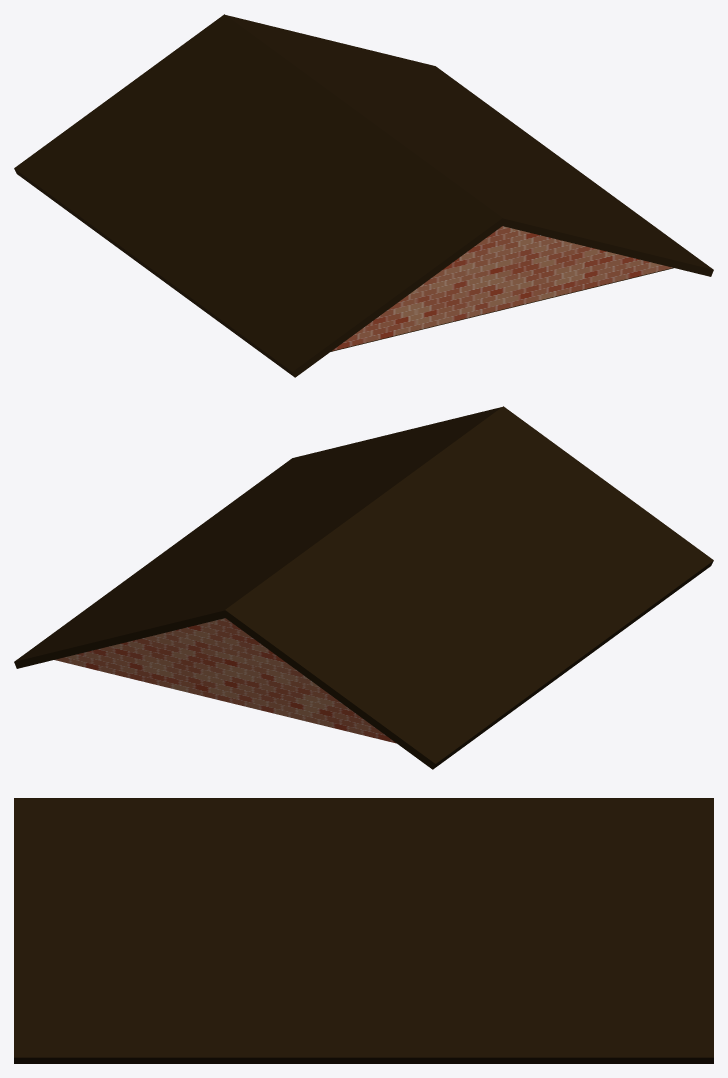
Rendered from Roof.fbx.
3 renders of one model, top to bottom at view 1: azimuth 30°, elevation 25°; view 2: azimuth 150°, elevation 25°; view 3: azimuth 270°, elevation 25°, orthographic. The views are drawn at different scales.
Parts seen in each view (by area): view 1: roof; view 2: roof; view 3: roof.
Boxes of the visible parts, box(x1,y1,x2,y2) form: roof: box(14, 14, 713, 377); roof: box(14, 406, 713, 769); roof: box(14, 798, 713, 1063).
Size of the model in its own units: 3205 by 798 by 3664.
Materials: 1 (1 with a texture image).
